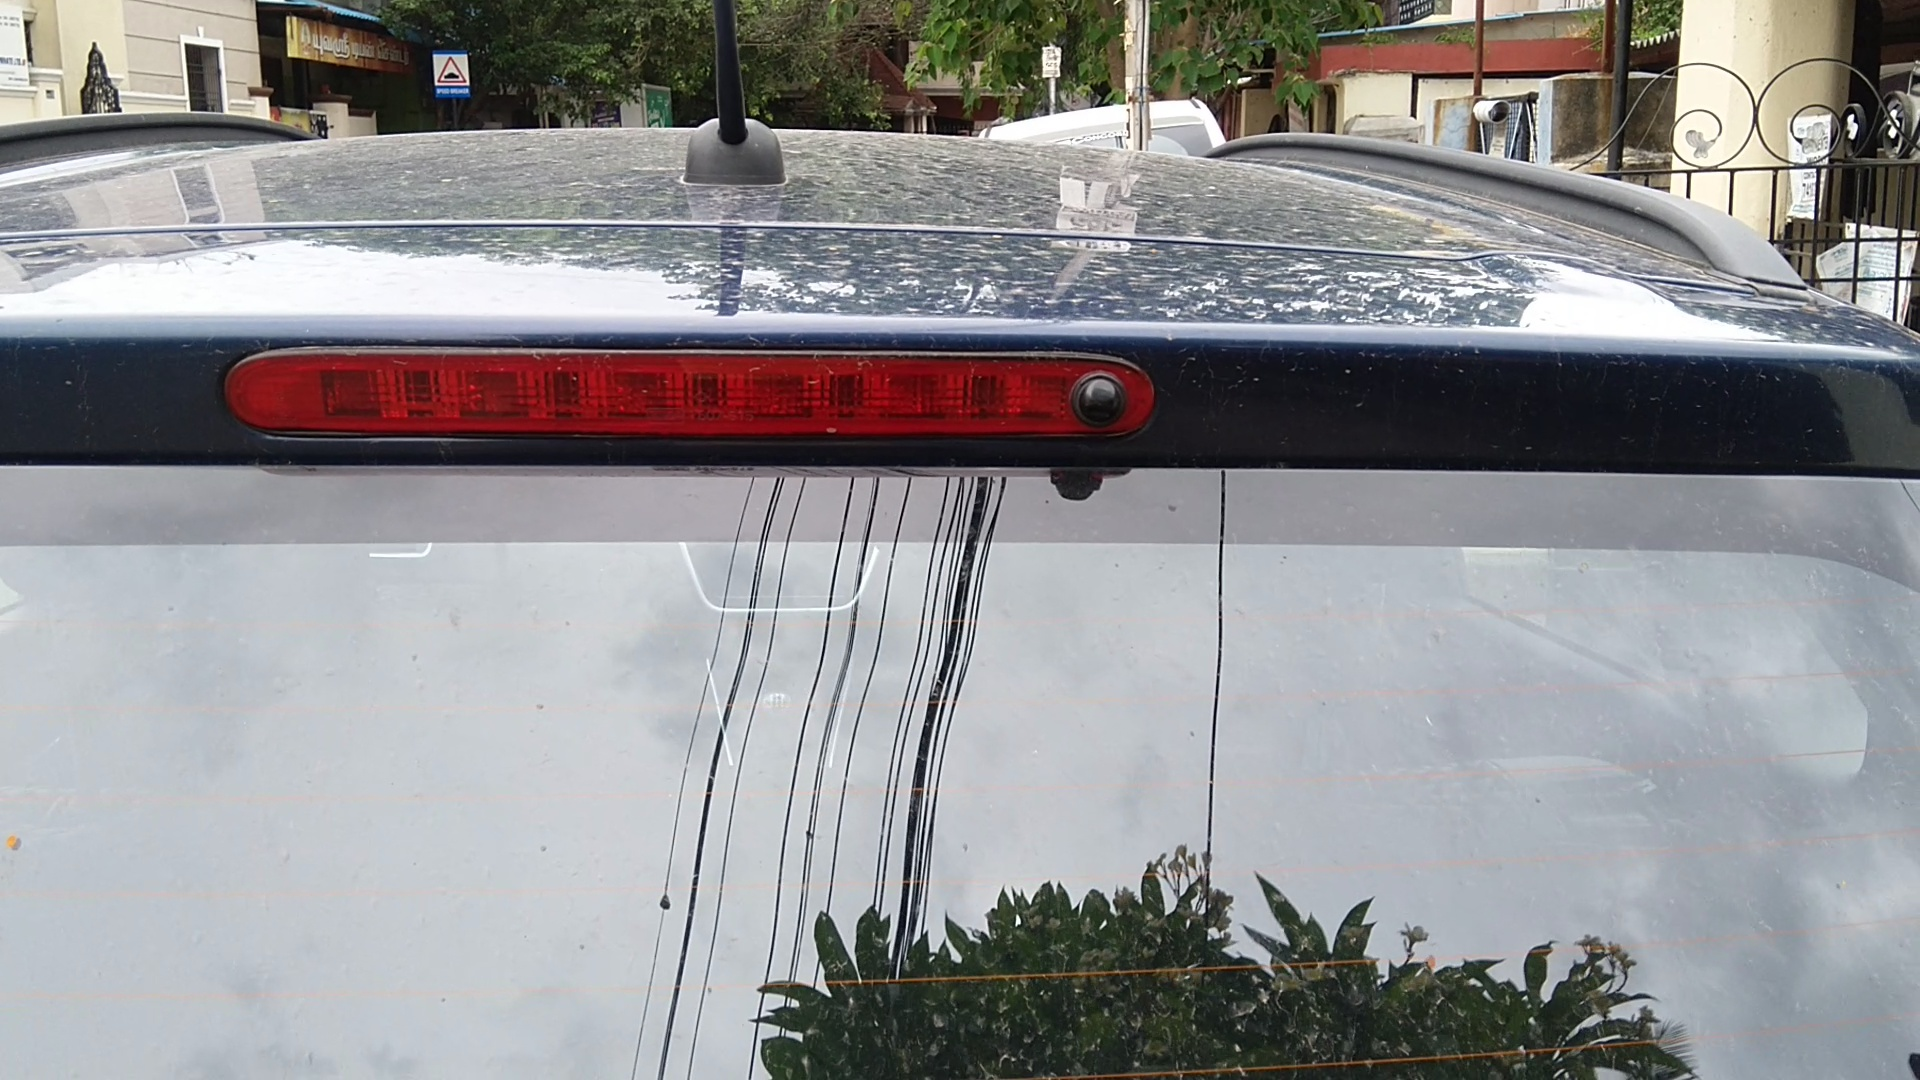rear_camera: (1054, 349, 1155, 448)
